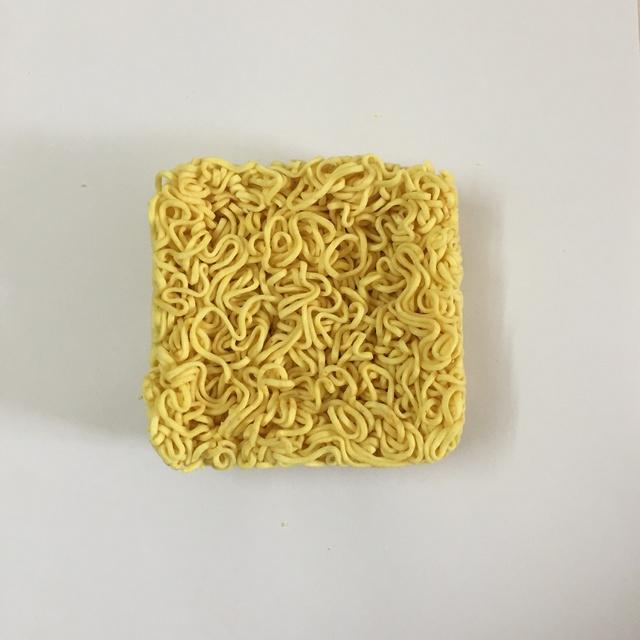noodles: (138, 145, 474, 482)
